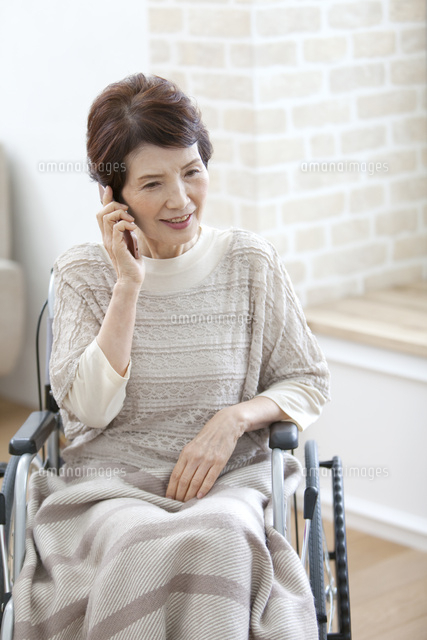phone: (95, 186, 142, 269)
talk: (95, 150, 210, 292)
